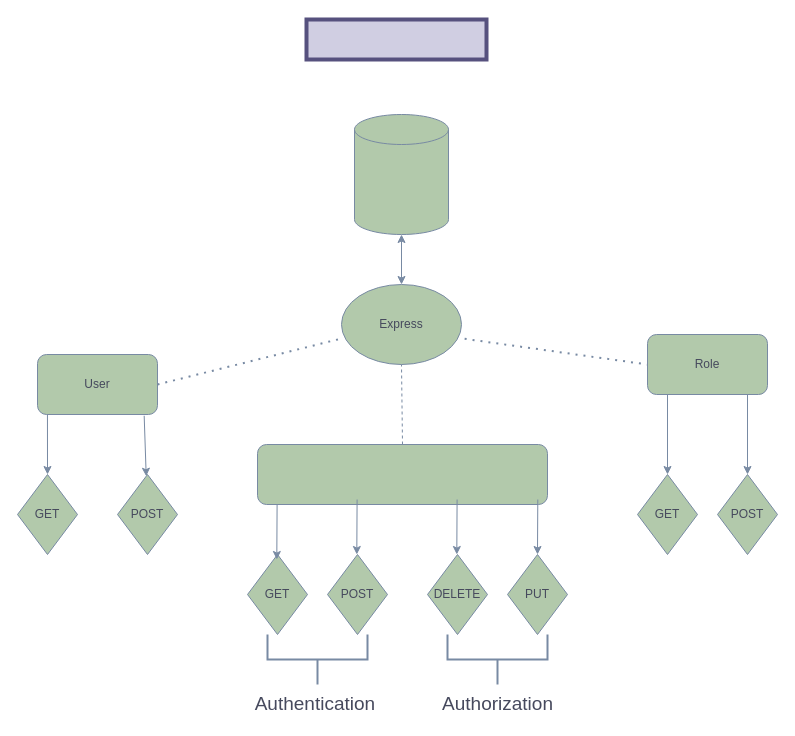
Some shapes in this 795 by 736 pixel diagram are drawn without their labels. Here are the shapes that lost their labels. From the top down, the centre of each, then its label:
At (x=396, y=39): "UML Diagram".
At (x=401, y=174): "MongoDB".
At (x=402, y=474): "Task".
